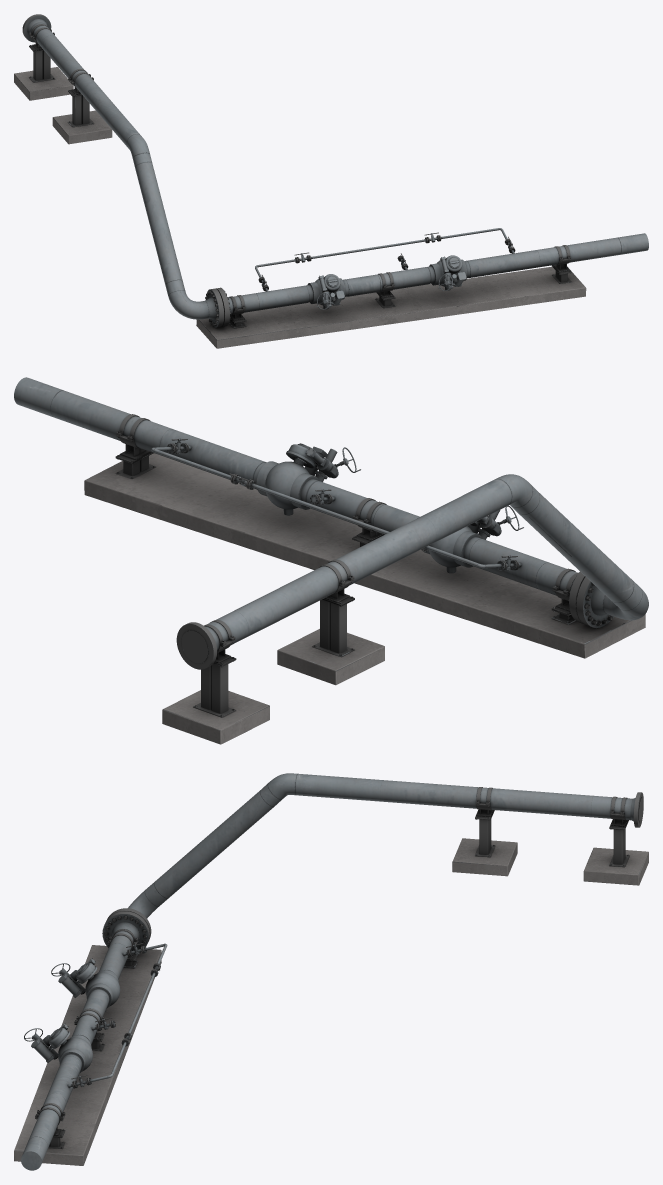
File: ICIIsolation-v1.glb
3 renders of one model, top to bottom at view 1: azimuth 30°, elevation 25°; view 2: azimuth 150°, elevation 25°; view 3: azimuth 270°, elevation 25°, orthographic. The views are drawn at different scales.
Parts seen in each view (by area): view 1: iciisolation; view 2: iciisolation; view 3: iciisolation.
Part boxes in pixels (x1,y1,x2,y2): iciisolation: [14, 14, 648, 348]; iciisolation: [14, 377, 648, 744]; iciisolation: [14, 773, 648, 1170].
Size of the model in its own units: 3.17 by 1.15 by 3.37.
1 material, 1 textured.
